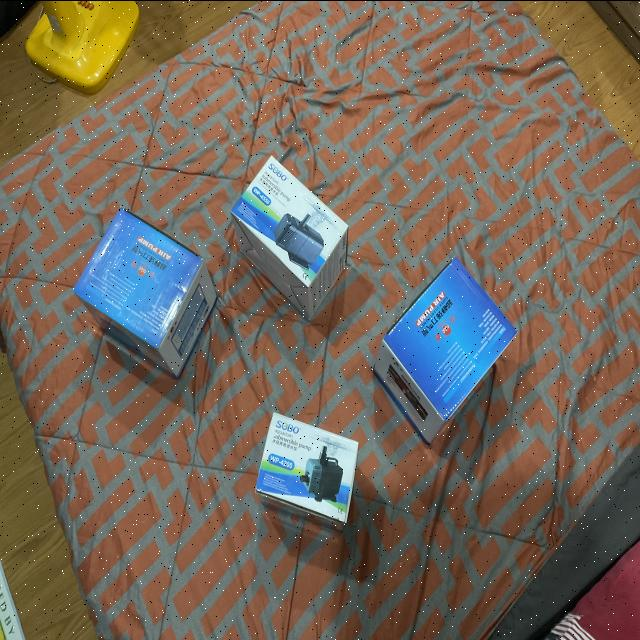SOBO_WP_4200: (222, 148, 354, 326), (244, 401, 364, 538)
YAMANO_LPP_20: (364, 242, 514, 452), (71, 210, 219, 392)
